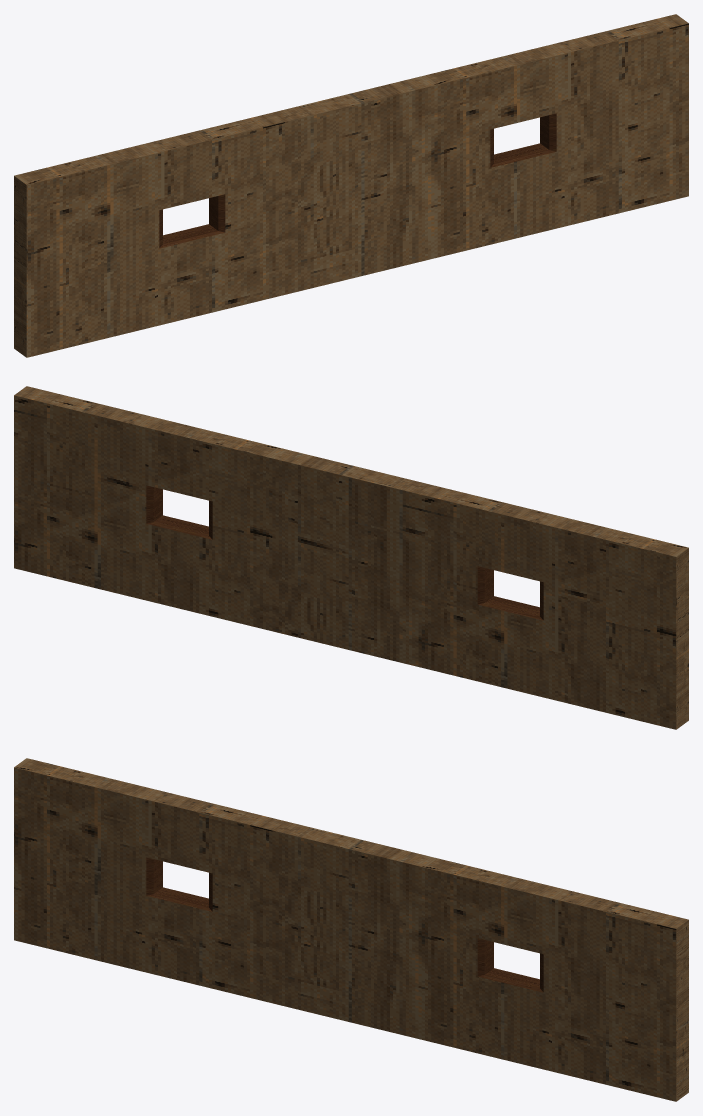
File: Muro.fbx
3 views of the same model, one above another, from view 1: azimuth 30°, elevation 25°; view 2: azimuth 150°, elevation 25°; view 3: azimuth 330°, elevation 25° (orthographic).
Visible parts, largest first — view 1: Cube.044; view 2: Cube.044; view 3: Cube.044.
Part boxes in pixels (bbox=[...]): Cube.044: bbox=[14, 14, 688, 357]; Cube.044: bbox=[14, 386, 688, 729]; Cube.044: bbox=[14, 758, 688, 1101].
Size of the model in its own units: 15.63 by 3.9 by 0.5208.
Materials: 2 (2 with a texture image).
